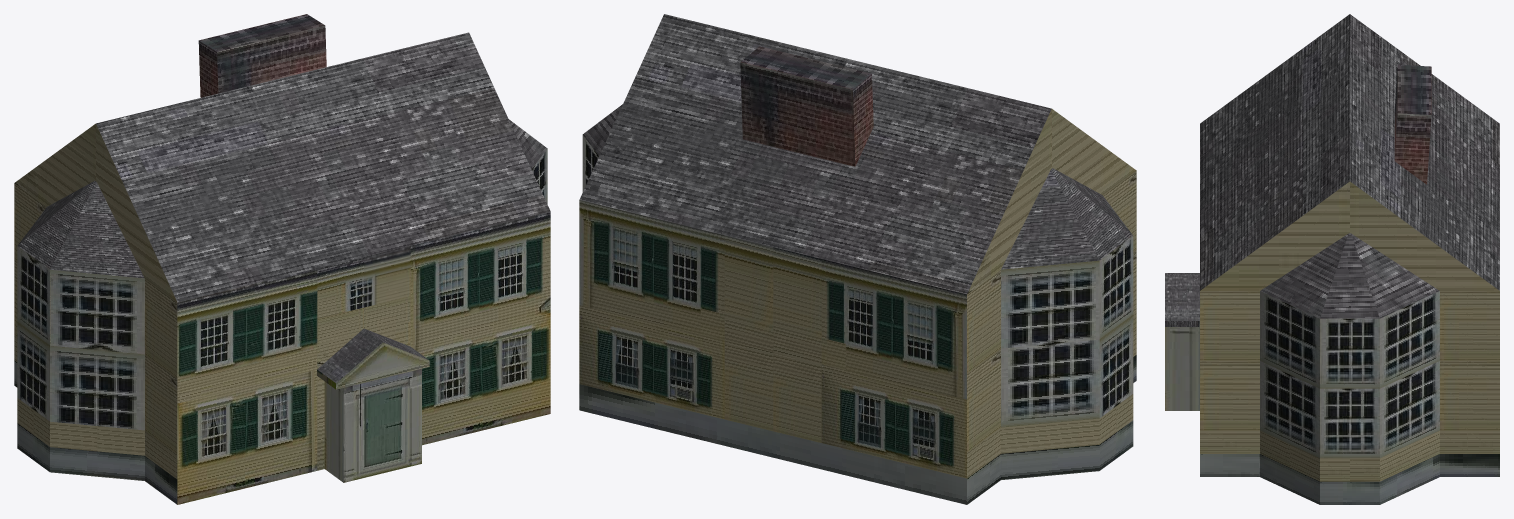
The model's file is House.glb.
The picture shows the model from 3 angles, left to right: view 1: azimuth 30°, elevation 25°; view 2: azimuth 150°, elevation 25°; view 3: azimuth 270°, elevation 25°; orthographic projection. The views are drawn at different scales.
Parts seen in each view (by area): view 1: window_side; view 2: window_side; view 3: window_side.
Boxes of the visible parts, left/top/right/bottom form: window_side: left=14, top=14, right=550, bottom=504; window_side: left=579, top=14, right=1136, bottom=504; window_side: left=1165, top=14, right=1499, bottom=504.
Size of the model in its own units: 16 by 10.4 by 10.14.
Materials: 1 (1 with a texture image).
